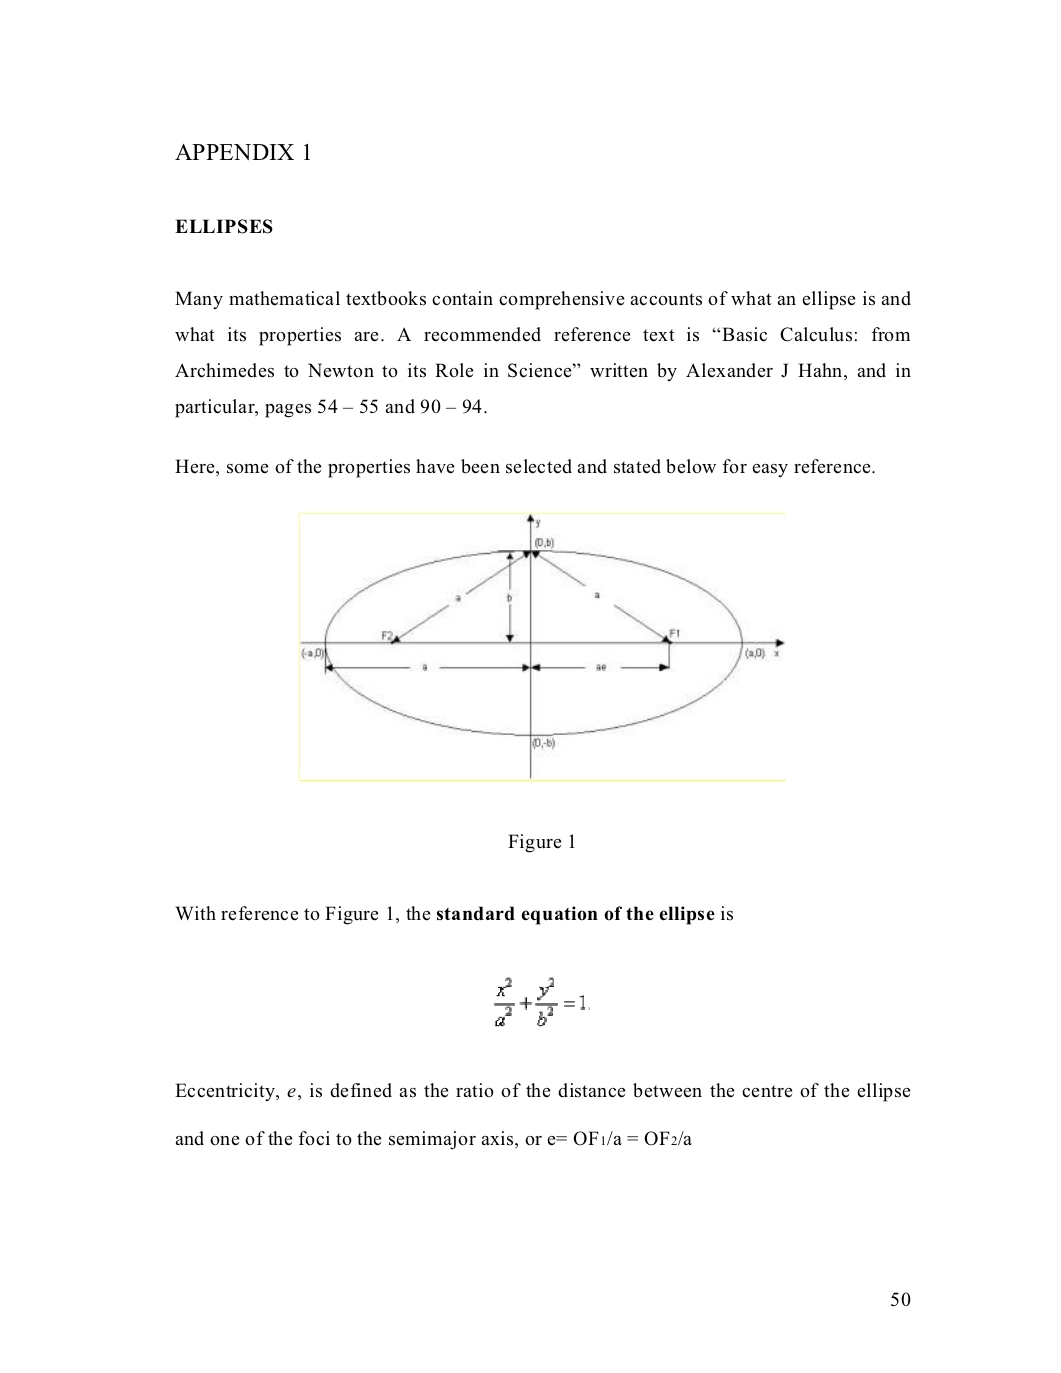figure: (298, 512, 785, 782)
formula: (493, 975, 588, 1028)
